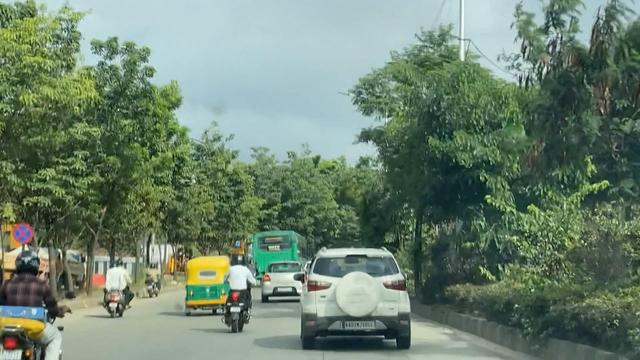LMV: (299, 236, 421, 349), (0, 243, 88, 360), (214, 237, 265, 340), (84, 233, 136, 333), (183, 243, 239, 317), (259, 253, 309, 308), (138, 247, 176, 315)
